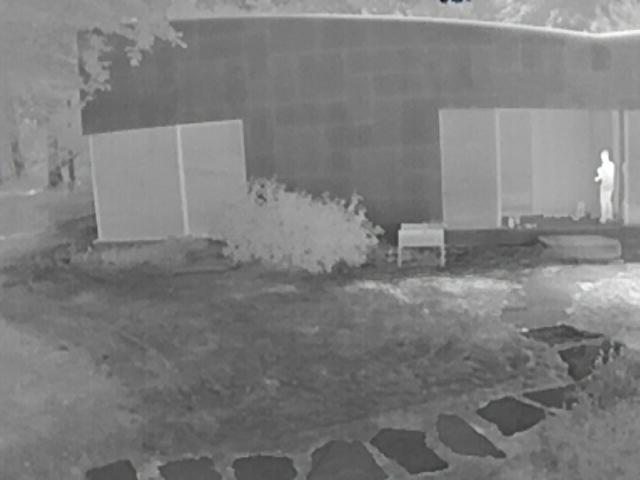person: (595, 147, 615, 227)
